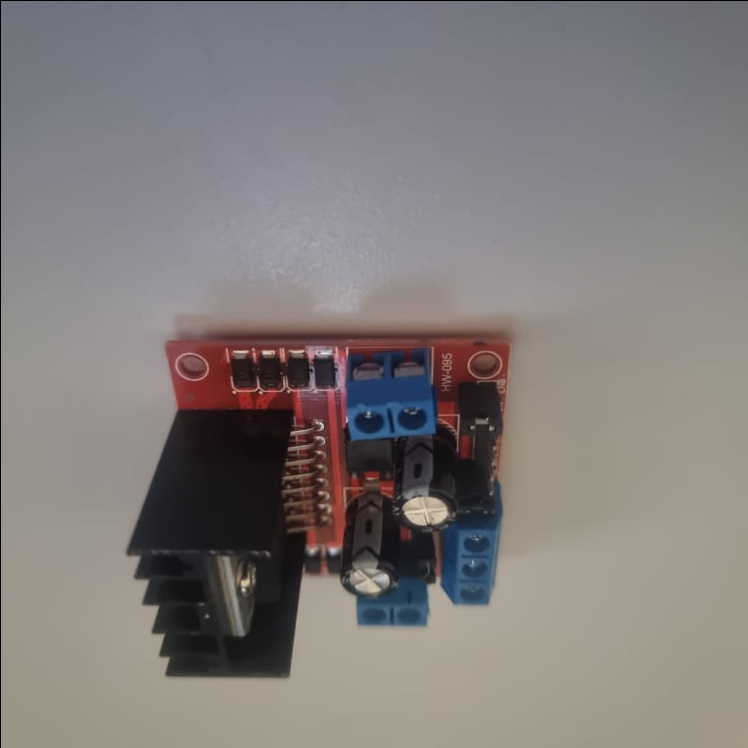MOTOR: (125, 338, 507, 679)
